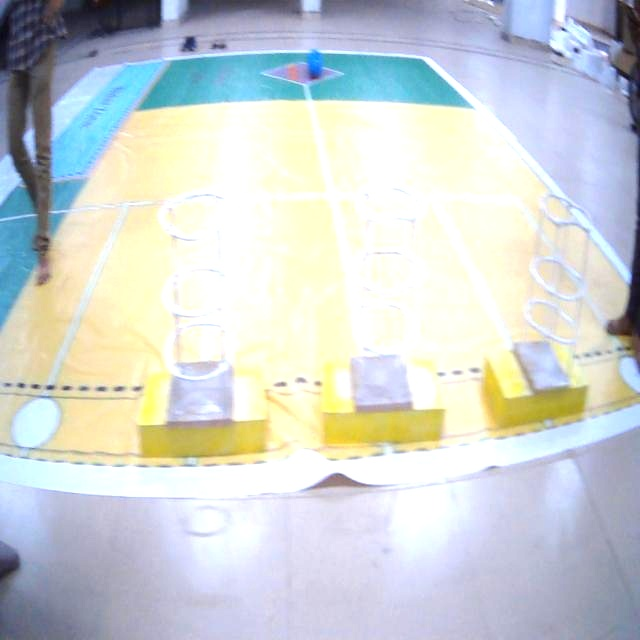silo: (165, 192, 238, 418), (355, 185, 418, 406), (522, 191, 588, 390)
